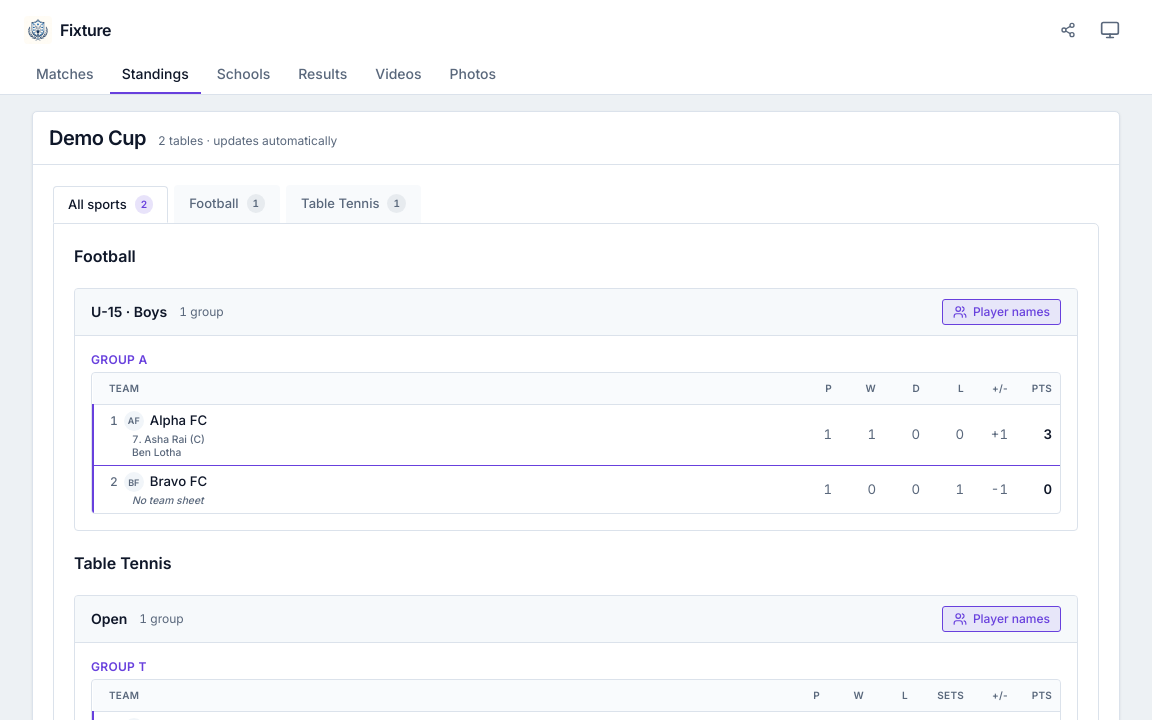
PublicStandingsPage › filters to one sport, then one category (owner ask: hard to find a category)
This screenshot has width=1152, height=720.
Check: the element with test id "standings-sport-Football" is shown, box [74, 244, 1078, 531]
Click the tab with test id "standings-sport-pick-Football" at (227, 204), box [174, 185, 280, 222]
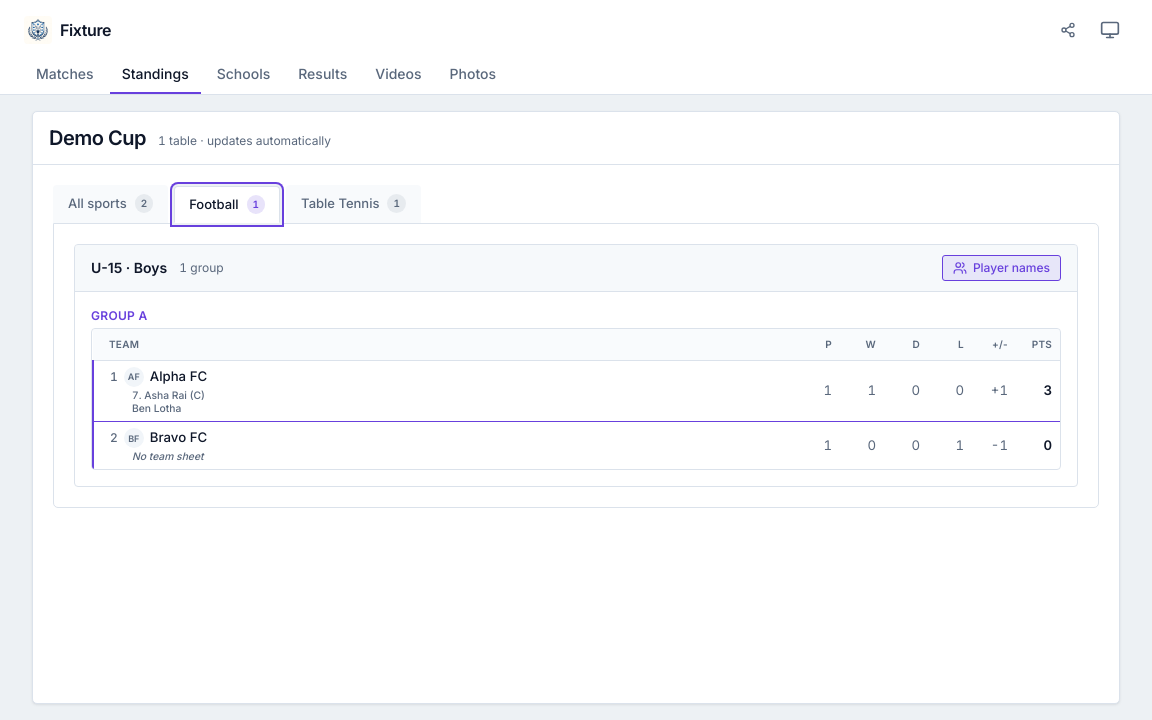
Check: the element with test id "standings-sport-Football" is shown, box [74, 244, 1078, 487]
// Back to everything.
Click the tab with test id "standings-sport-all" at (111, 204), box [53, 185, 168, 222]
(page scrolled)
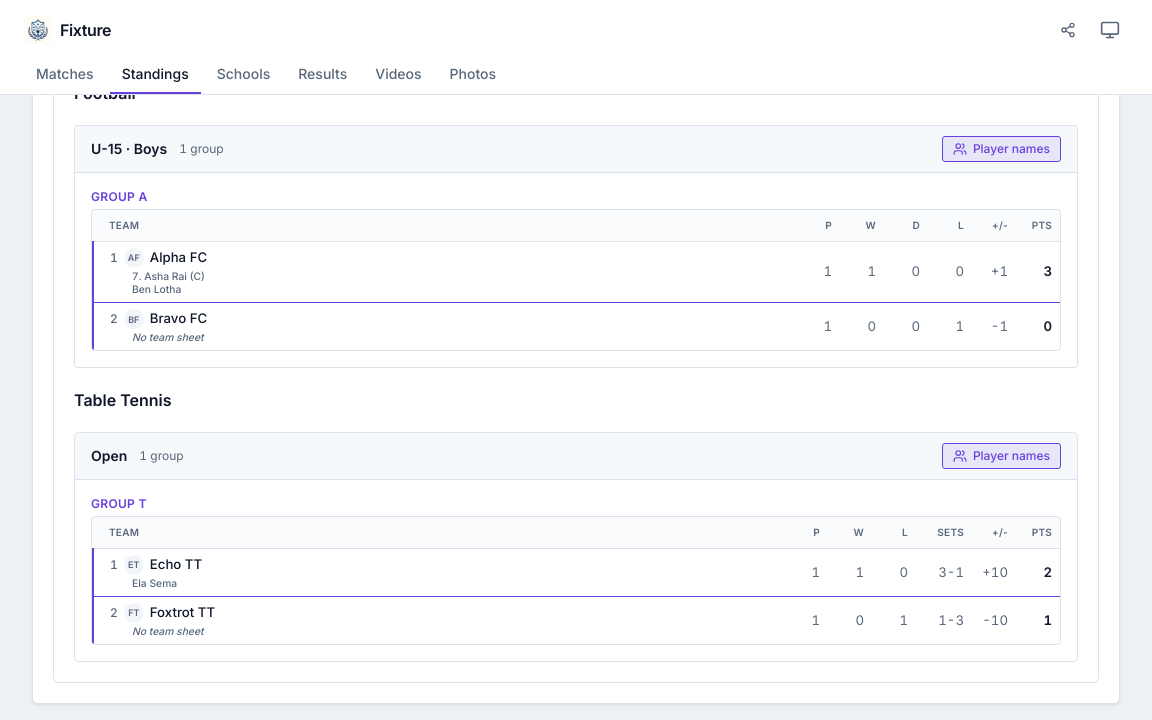
Check: the element with test id "standings-sport-Table Tennis" is shown, box [74, 388, 1078, 662]
